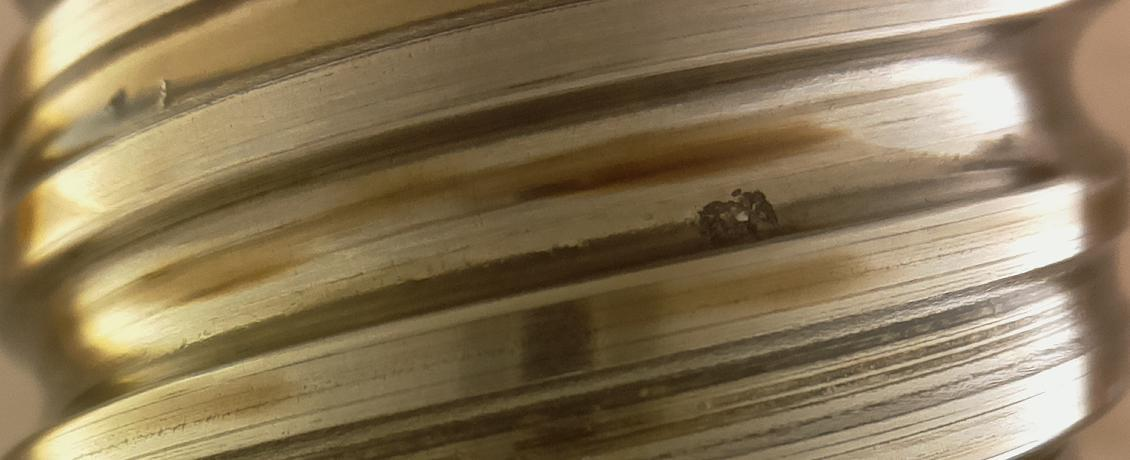pitting: (698, 188, 777, 249)
